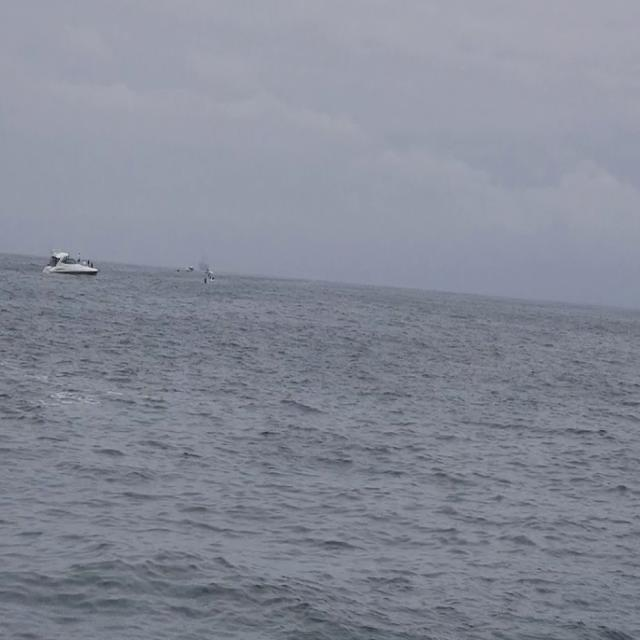houseboat: (40, 240, 100, 280)
